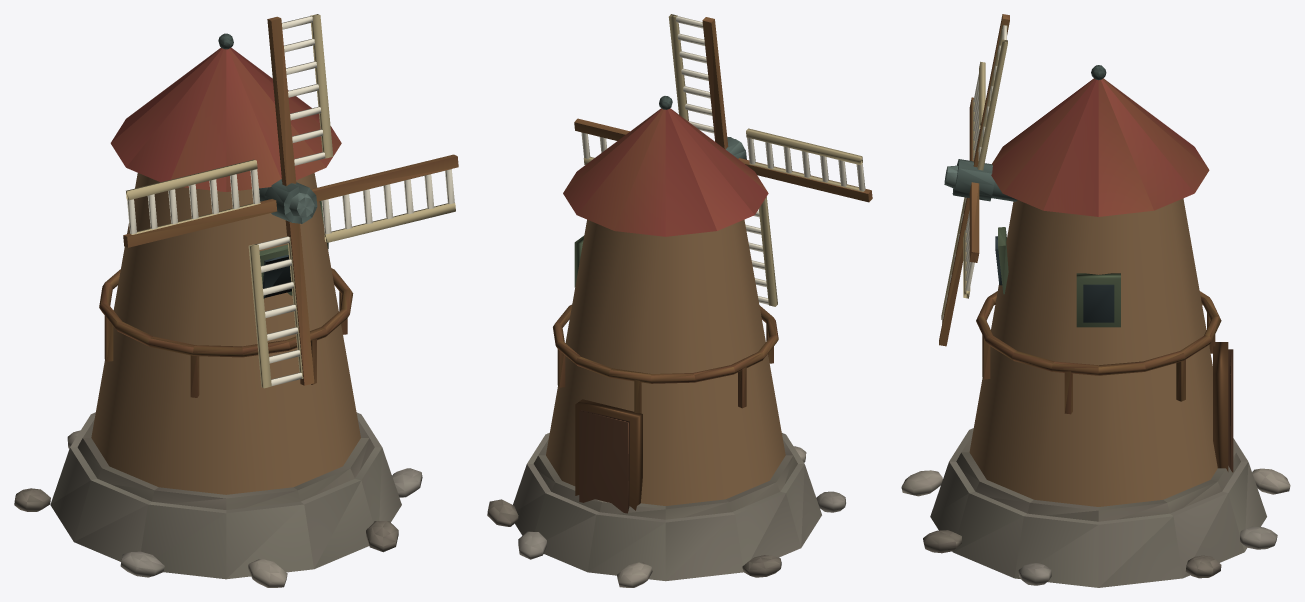
Rendered from farm-windmill.fixed.glb.
3 renders of one model, left to right at view 1: azimuth 30°, elevation 25°; view 2: azimuth 150°, elevation 25°; view 3: azimuth 270°, elevation 25°, orthographic. The views are drawn at different scales.
Parts seen in each view (by area): view 1: windmillHardware, windmillTower, windmillSailLattice, windmillBlades; view 2: windmillHardware, windmillTower, windmillSailLattice, windmillDoorLeaf, windmillBlades, windmillDoorFrame; view 3: windmillTower, windmillHardware, windmillBlades, windmillSailLattice, windmillDoorFrame, windmillWindowFrameX, windmillWindowGlassX, windmillDoorLeaf.
Boxes of the visible parts, left/top/right/bottom form: windmillHardware: left=14, top=33, right=422, bottom=587; windmillTower: left=91, top=173, right=360, bottom=494; windmillSailLattice: left=126, top=14, right=455, bottom=388; windmillBlades: left=123, top=16, right=458, bottom=385; windmillHardware: left=487, top=96, right=845, bottom=587; windmillTower: left=546, top=219, right=785, bottom=505; windmillSailLattice: left=581, top=14, right=865, bottom=306; windmillDoorLeaf: left=579, top=409, right=629, bottom=513; windmillBlades: left=574, top=17, right=872, bottom=202; windmillDoorFrame: left=575, top=399, right=642, bottom=510; windmillTower: left=969, top=198, right=1217, bottom=506; windmillHardware: left=901, top=65, right=1290, bottom=587; windmillBlades: left=939, top=14, right=1009, bottom=346; windmillSailLattice: left=941, top=25, right=1007, bottom=323; windmillDoorFrame: left=1213, top=342, right=1228, bottom=471; windmillWindowFrameX: left=1076, top=273, right=1120, bottom=327; windmillWindowGlassX: left=1083, top=284, right=1114, bottom=322; windmillDoorLeaf: left=1228, top=349, right=1233, bottom=472.
Bounding box in the file's own units: 3.35 × 4.98 × 3.51.
